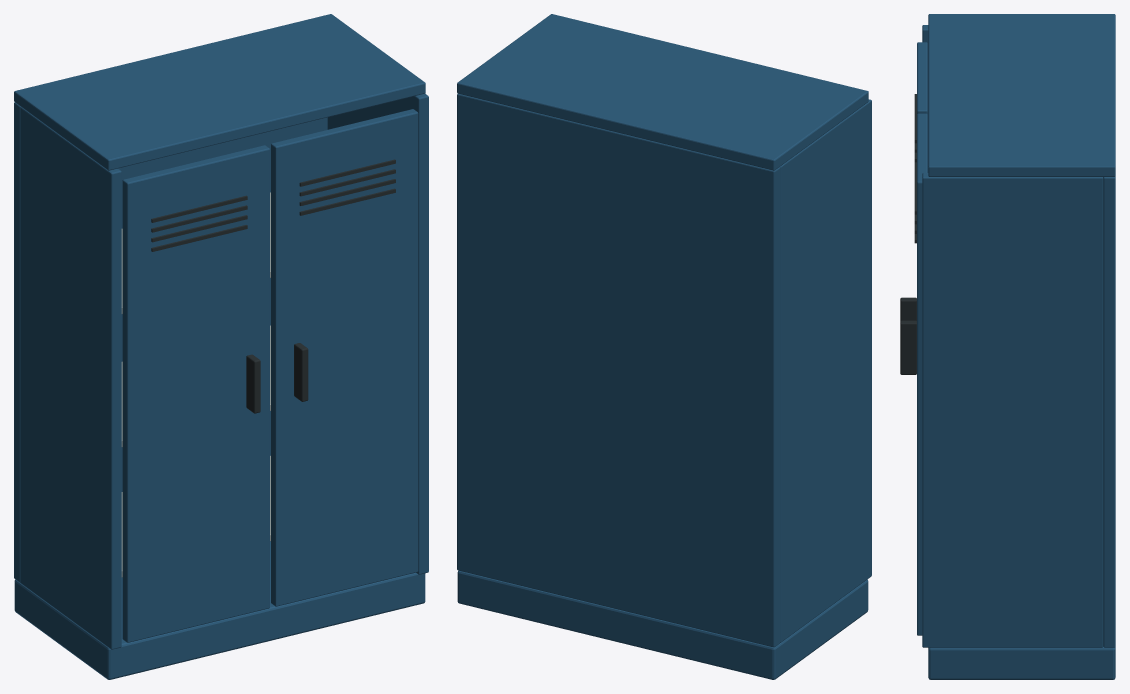
3 views of the same model, side by side, from view 1: azimuth 30°, elevation 25°; view 2: azimuth 150°, elevation 25°; view 3: azimuth 270°, elevation 25° (orthographic).
Visible parts, largest first — view 1: Left_Door, Right_Door, CABINET_Side.001, CABINET_Top, CABINET_Base, CABINET_Back, CABINET_Side, Left_Handle, Right_Handle; view 2: CABINET_Back, CABINET_Side.001, CABINET_Top, CABINET_Base; view 3: CABINET_Side, CABINET_Top, CABINET_Base, CABINET_Back, Right_Door, Right_Handle, Left_Door, Left_Handle, CABINET_Side.001.
Boxes of the visible parts, box(x1,y1,x2,y2) form: Left_Door: box(122, 145, 269, 642); Right_Door: box(271, 109, 418, 606); CABINET_Side.001: box(20, 107, 121, 649); CABINET_Top: box(14, 14, 425, 170); CABINET_Base: box(14, 541, 425, 679); CABINET_Back: box(14, 102, 327, 582); CABINET_Side: box(327, 93, 428, 574); Left_Handle: box(246, 354, 260, 413); Right_Handle: box(294, 343, 308, 401); CABINET_Back: box(457, 93, 779, 647); CABINET_Side.001: box(780, 99, 871, 642); CABINET_Top: box(457, 14, 868, 170); CABINET_Base: box(457, 570, 868, 679); CABINET_Side: box(922, 173, 1103, 647); CABINET_Top: box(928, 14, 1115, 176); CABINET_Base: box(928, 647, 1115, 679); CABINET_Back: box(1103, 176, 1115, 647); Right_Door: box(917, 113, 927, 635); Right_Handle: box(900, 320, 916, 374); Left_Door: box(917, 42, 927, 114); Left_Handle: box(900, 297, 916, 321); CABINET_Side.001: box(922, 25, 928, 172).
Size of the model in its own units: 1.2 by 1.88 by 0.7125.
